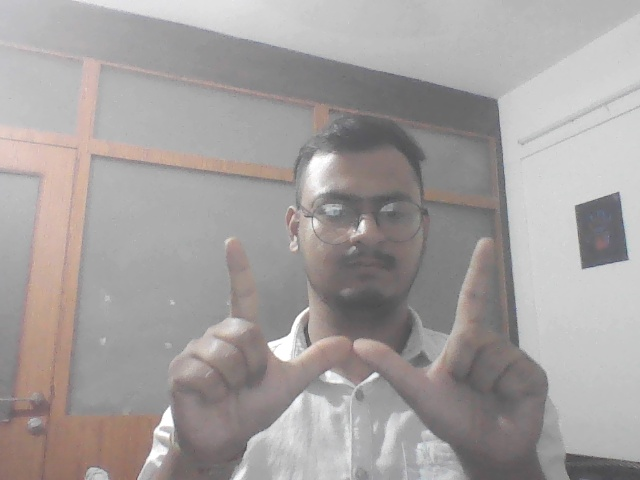Whatever: (161, 224, 553, 458)
